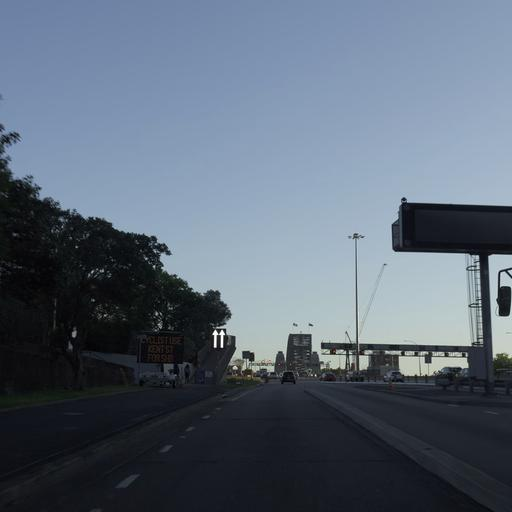Street light: (347, 231, 365, 373)
